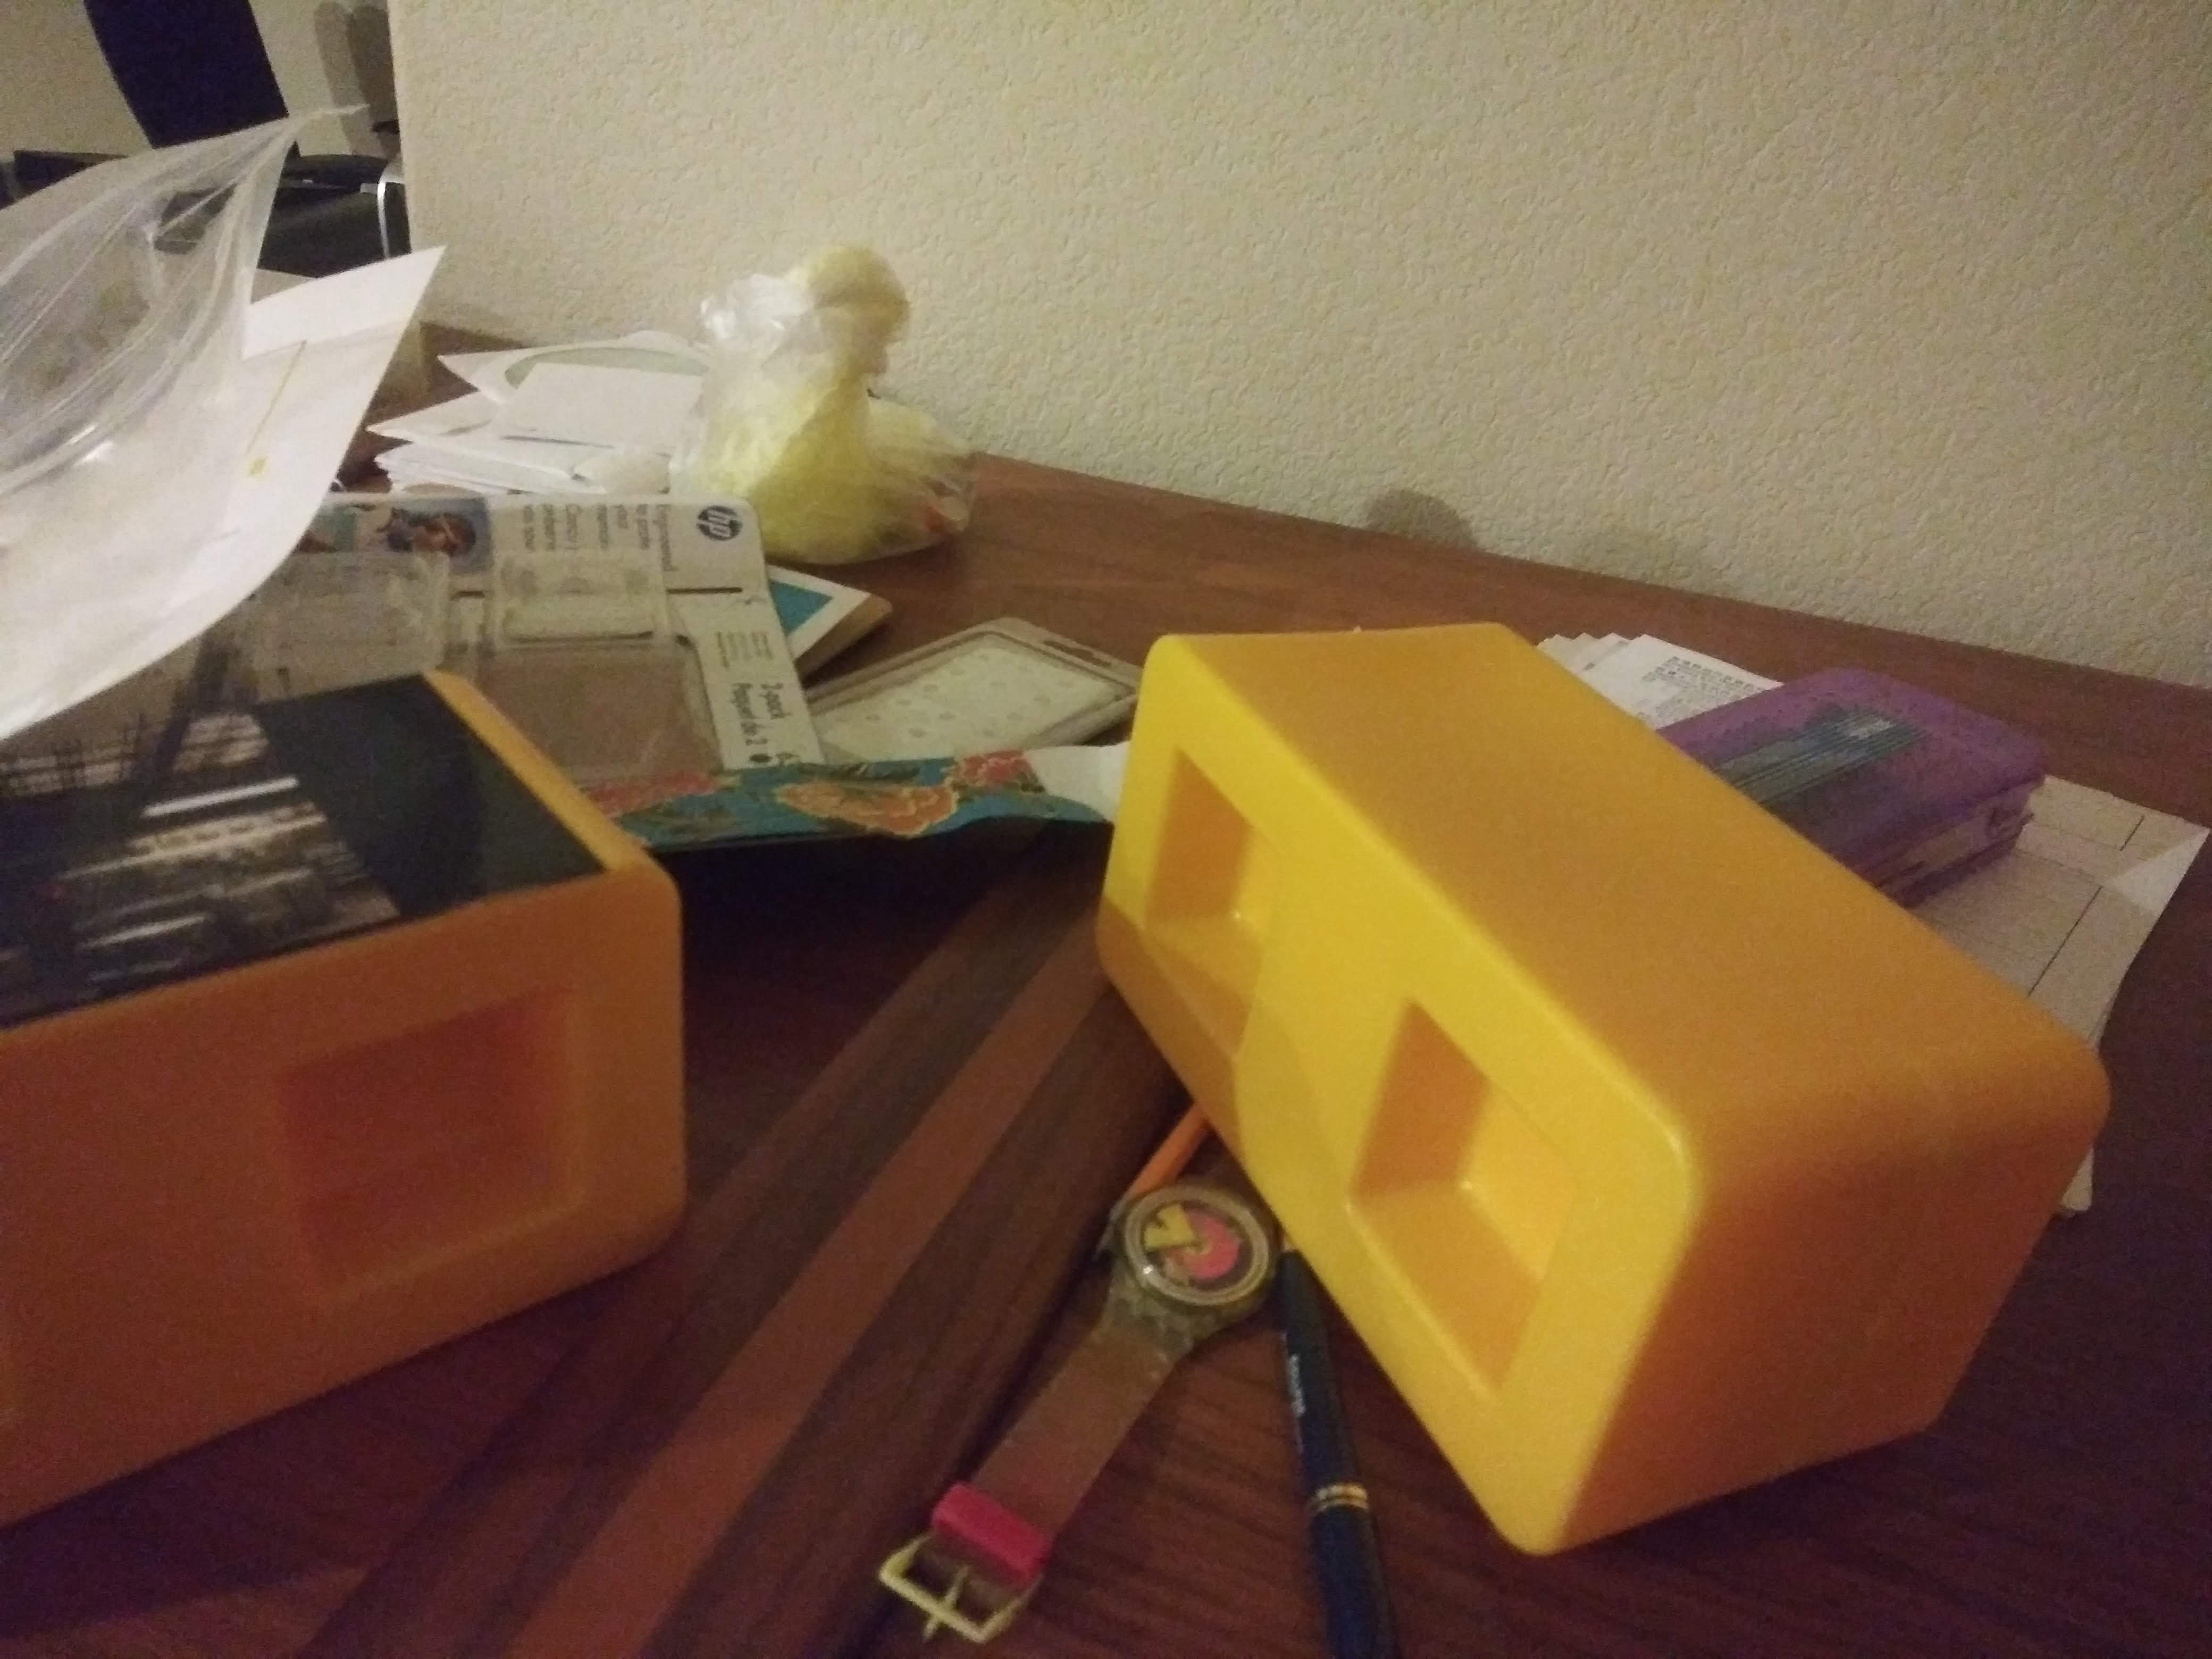skystone: (24, 734, 660, 1354)
stone: (1122, 638, 1968, 1462)
